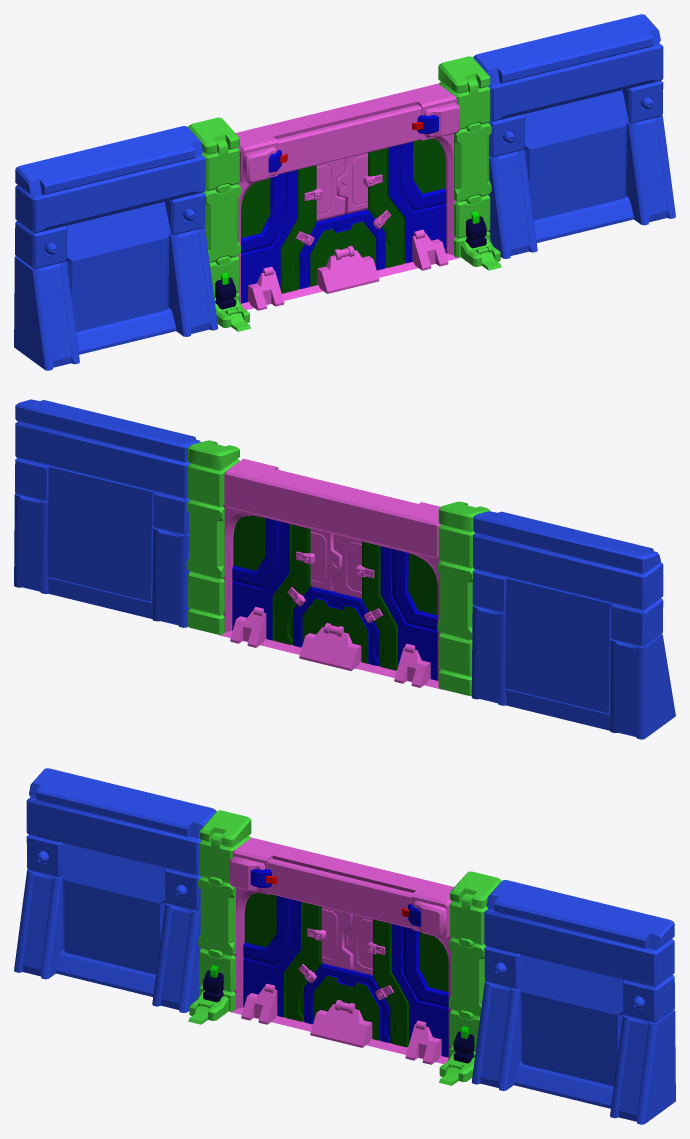
The model's file is SM_WallsAndDoorScifi02 (VertexPaint).FBX.
3 renders of one model, top to bottom at view 1: azimuth 30°, elevation 25°; view 2: azimuth 150°, elevation 25°; view 3: azimuth 330°, elevation 25°, orthographic.
Parts seen in each view (by area): view 1: Box457, Box443, Door_UV:Door_01polySurface035, Door_UV:Door_01polySurface34, Box442, Box456, Box440, Box454, Object200, Door_UV:DoorWay_TopBox435, Object207, Object205 (+29 smaller); view 2: Box457, Box443, Door_UV:Box434DoorWay_Top, Door_UV:Door_01polySurface035, Door_UV:Door_01polySurface34, Box442, Box456, Object200, Box440, Box454, Door_UV:Door_01polySurface28, Object206 (+25 smaller); view 3: Box443, Box457, Door_UV:Door_01polySurface34, Door_UV:Door_01polySurface035, Box456, Box442, Box454, Box440, Object207, Door_UV:DoorWay_TopBox435, Object200, Object206 (+29 smaller).
Boxes of the visible parts, x1,y1,x2,y2 form: Box457: [523, 90, 628, 220]; Box443: [65, 202, 170, 332]; Door_UV:Door_01polySurface035: [367, 138, 446, 267]; Door_UV:Door_01polySurface34: [241, 165, 316, 303]; Box442: [15, 155, 205, 233]; Box456: [488, 43, 663, 121]; Box440: [15, 126, 202, 195]; Box454: [473, 14, 660, 84]; Object200: [14, 256, 79, 370]; Door_UV:DoorWay_TopBox435: [277, 104, 421, 174]; Object207: [626, 115, 675, 225]; Object205: [168, 227, 217, 336]; Box457: [47, 466, 154, 601]; Box443: [505, 577, 612, 713]; Door_UV:Box434DoorWay_Top: [224, 458, 440, 558]; Door_UV:Door_01polySurface035: [232, 515, 311, 644]; Door_UV:Door_01polySurface34: [362, 541, 437, 680]; Box442: [473, 533, 663, 610]; Box456: [15, 421, 190, 498]; Object200: [610, 633, 675, 739]; Box440: [473, 511, 660, 573]; Box454: [15, 399, 200, 462]; Door_UV:Door_01polySurface28: [293, 586, 379, 665]; Object206: [152, 527, 190, 627]; Box443: [61, 844, 166, 974]; Box457: [519, 956, 624, 1086]; Door_UV:Door_01polySurface34: [243, 892, 322, 1021]; Door_UV:Door_01polySurface035: [373, 919, 448, 1057]; Box456: [484, 909, 674, 987]; Box442: [26, 797, 201, 875]; Box454: [486, 880, 674, 949]; Box440: [29, 768, 216, 838]; Object207: [610, 1010, 675, 1124]; Door_UV:DoorWay_TopBox435: [268, 858, 412, 928]; Object200: [14, 869, 63, 979]; Object206: [472, 981, 521, 1090].
Bounding box in the file's own units: 7297 × 2020 × 897.
